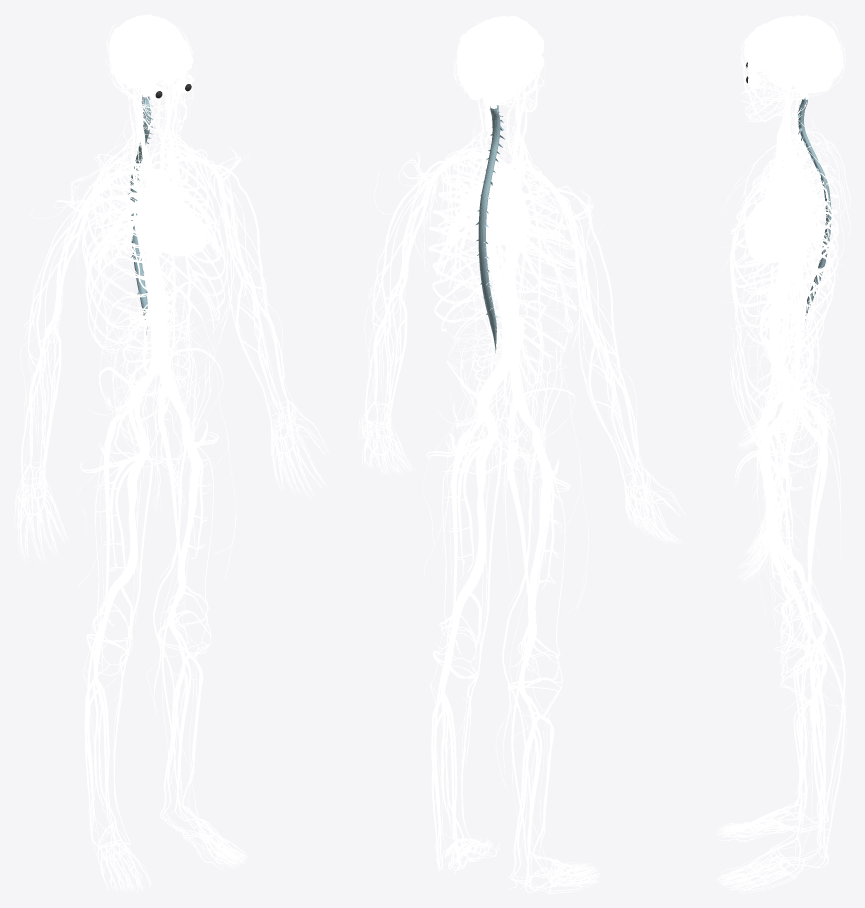
File: nerven_gefaesse.glb
The picture shows the model from 3 angles, left to right: view 1: azimuth 30°, elevation 25°; view 2: azimuth 150°, elevation 25°; view 3: azimuth 270°, elevation 25°; orthographic projection. The views are drawn at different scales.
Visible parts, largest first — view 1: Right superior intercostal vein, Posterior intercostal arteries.r, Intercostal nerves.r, Left superior intercostal vein, Intercostal nerves.l, Right atrium, Great saphenous vein.l, Spinal dura, Right ventricle, Great saphenous vein.r, Posterior intercostal arteries.l, Sciatic nerve.r (+7 smaller); view 2: Spinal dura, Posterior intercostal arteries.r, Right superior intercostal vein, Left superior intercostal vein, Posterior intercostal arteries.l, Intercostal nerves.r, Great saphenous vein.l, Femoral vein.l, Sciatic nerve.r, Great saphenous vein.r, Femoral vein.r, Sciatic nerve.l (+6 smaller); view 3: Left superior intercostal vein, Posterior intercostal arteries.l, Intercostal nerves.l, Spinal dura, Sciatic nerve.l, Cephalic vein.l, Left ventricle, Sciatic nerve.r, Right superior intercostal vein, Small saphenous vein.l, Middle frontal gyrus.l, Great saphenous vein.r (+34 smaller).
Part boxes in pixels (bbox=[...]): Right superior intercostal vein: bbox=[83, 156, 173, 350]; Posterior intercostal arteries.r: bbox=[82, 162, 170, 353]; Intercostal nerves.r: bbox=[82, 148, 172, 392]; Left superior intercostal vein: bbox=[146, 146, 227, 327]; Intercostal nerves.l: bbox=[142, 143, 227, 389]; Right atrium: bbox=[137, 202, 172, 253]; Great saphenous vein.l: bbox=[153, 445, 194, 828]; Spinal dura: bbox=[128, 95, 155, 334]; Right ventricle: bbox=[155, 211, 198, 255]; Great saphenous vein.r: bbox=[113, 454, 153, 843]; Posterior intercostal arteries.l: bbox=[151, 152, 227, 328]; Sciatic nerve.r: bbox=[104, 386, 131, 594]; Spinal dura: bbox=[475, 105, 505, 352]; Posterior intercostal arteries.r: bbox=[481, 187, 576, 357]; Right superior intercostal vein: bbox=[495, 169, 576, 356]; Left superior intercostal vein: bbox=[429, 156, 505, 329]; Posterior intercostal arteries.l: bbox=[428, 176, 504, 331]; Intercostal nerves.r: bbox=[490, 164, 576, 372]; Great saphenous vein.l: bbox=[461, 437, 502, 842]; Femoral vein.l: bbox=[462, 422, 498, 592]; Sciatic nerve.r: bbox=[497, 398, 530, 628]; Great saphenous vein.r: bbox=[502, 450, 542, 857]; Femoral vein.r: bbox=[530, 433, 546, 608]; Sciatic nerve.l: bbox=[451, 391, 480, 610]; Left superior intercostal vein: bbox=[731, 163, 838, 356]; Posterior intercostal arteries.l: bbox=[731, 175, 838, 358]; Intercostal nerves.l: bbox=[731, 154, 838, 382]; Spinal dura: bbox=[797, 97, 831, 331]; Sciatic nerve.l: bbox=[798, 385, 827, 612]; Cephalic vein.l: bbox=[776, 196, 798, 517]; Left ventricle: bbox=[750, 223, 796, 262]; Sciatic nerve.r: bbox=[800, 370, 827, 576]; Right superior intercostal vein: bbox=[731, 144, 838, 306]; Small saphenous vein.l: bbox=[805, 638, 845, 868]; Middle frontal gyrus.l: bbox=[745, 30, 795, 63]; Great saphenous vein.r: bbox=[757, 430, 822, 817].
Size of the model in its own units: 0.6674 by 1.7 by 0.2488.
